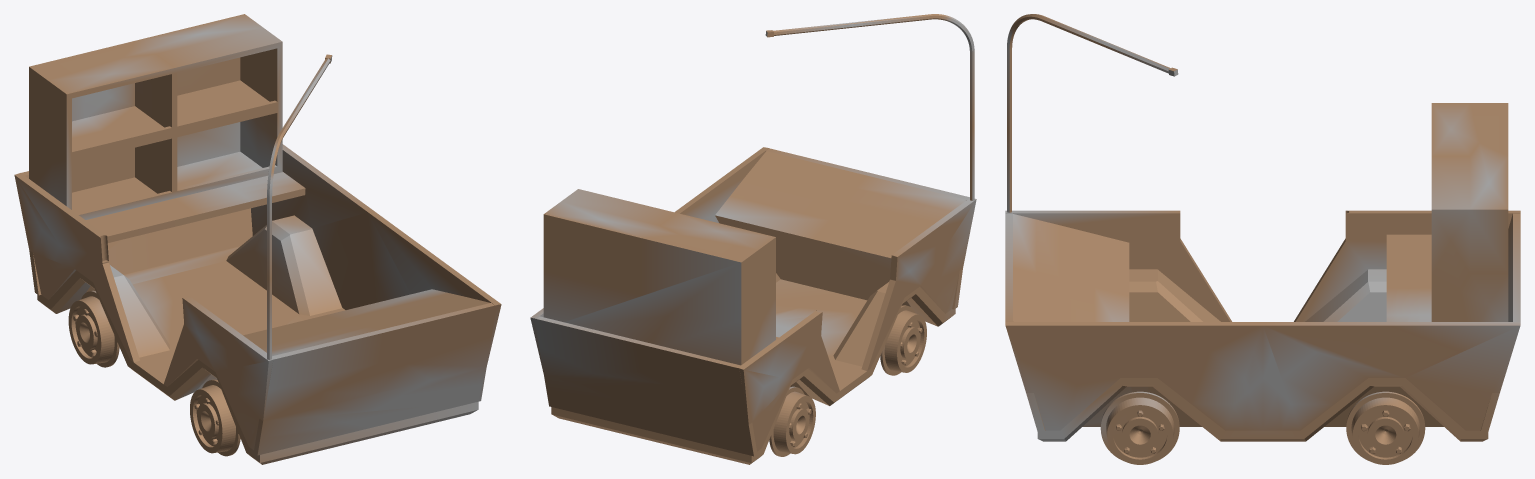
Rendered from cart_color2.glb.
3 renders of one model, left to right at view 1: azimuth 30°, elevation 25°; view 2: azimuth 150°, elevation 25°; view 3: azimuth 270°, elevation 25°, orthographic. The views are drawn at different scales.
Parts seen in each view (by area): view 1: Base Wagonnet A.1; view 2: Base Wagonnet A.1; view 3: Base Wagonnet A.1.
Part boxes in pixels (box(x1,y1,x2,y2)): Base Wagonnet A.1: box(14, 14, 501, 464); Base Wagonnet A.1: box(530, 14, 976, 464); Base Wagonnet A.1: box(1005, 14, 1520, 464).
Size of the model in its own units: 1.81 by 2.64 by 3.43.
